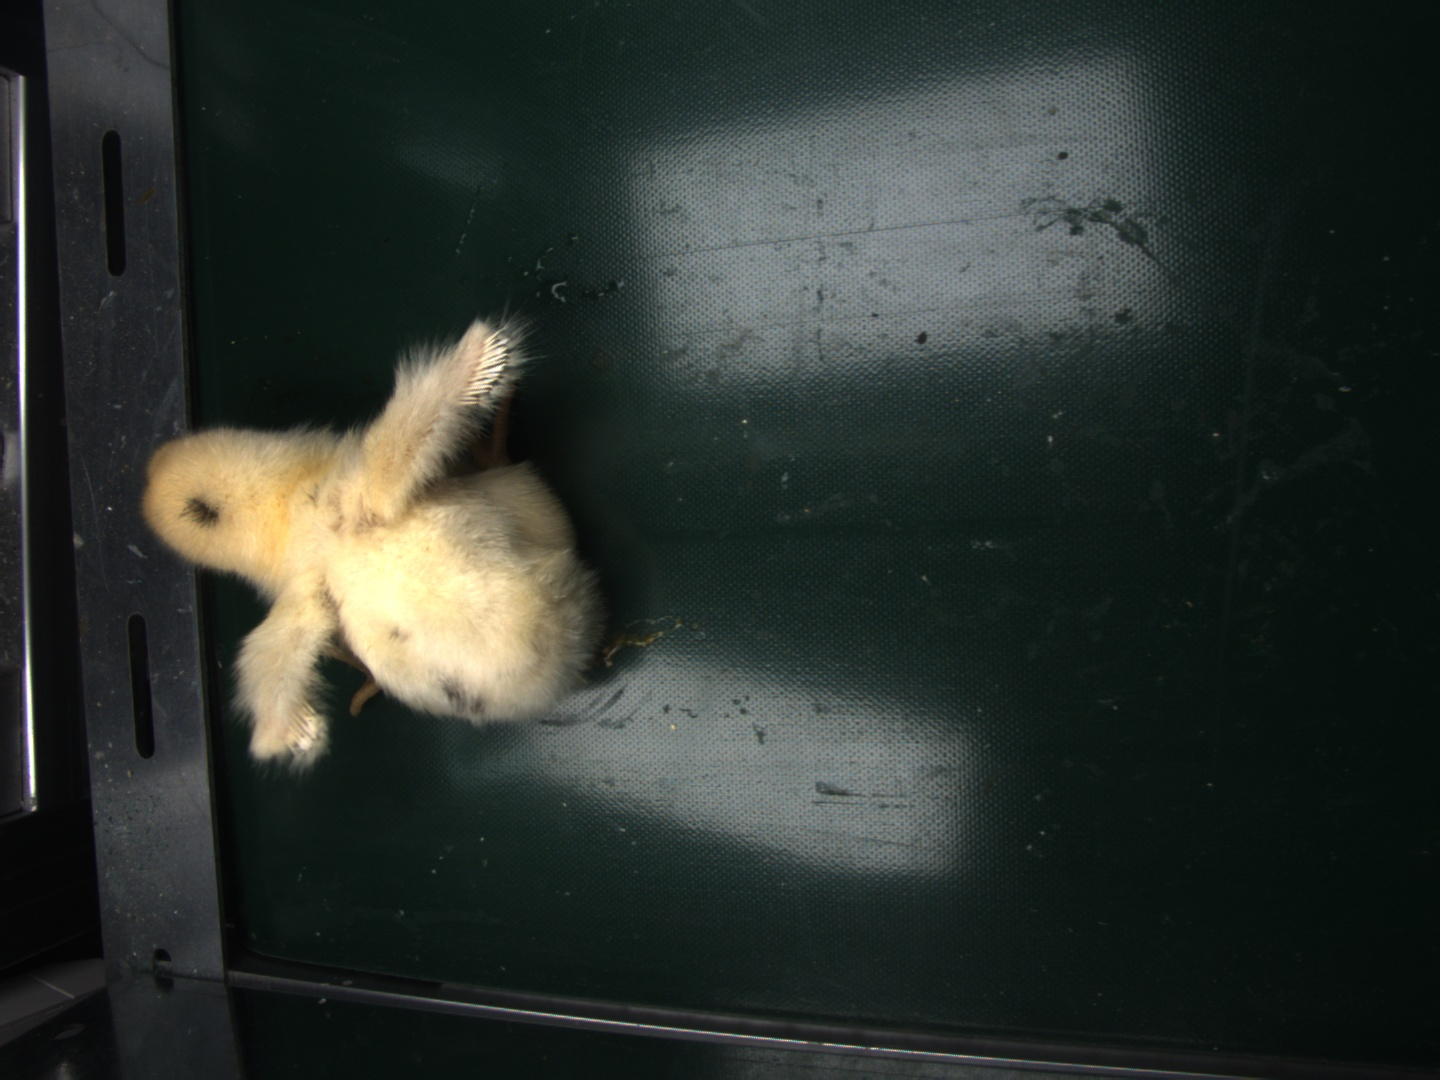male: (458, 324, 510, 406)
